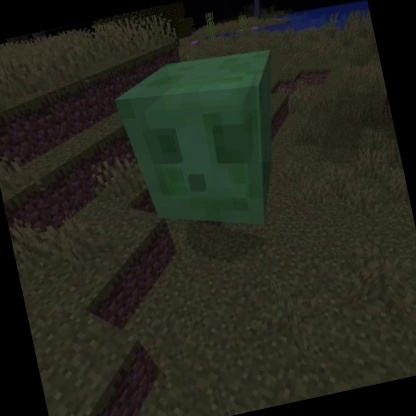slime: (102, 36, 310, 257)
